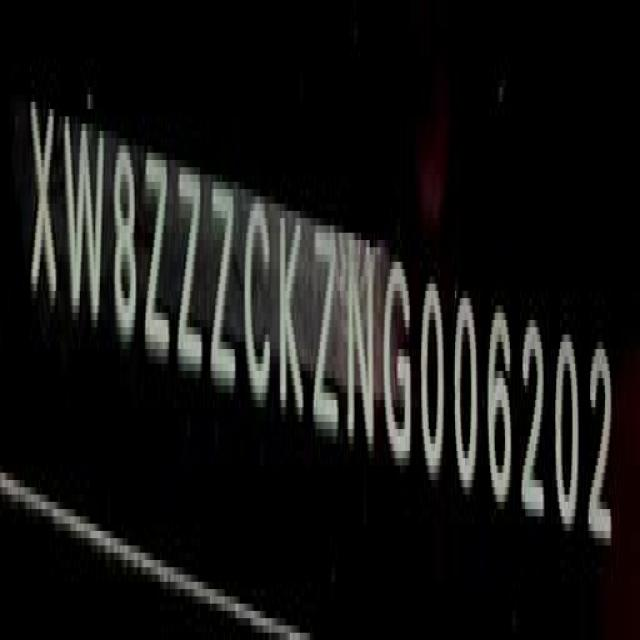0: (454, 288, 481, 499), (556, 327, 582, 535), (421, 271, 446, 484)
2: (521, 318, 548, 530), (590, 335, 616, 552)
6: (486, 300, 514, 514)
8: (114, 136, 138, 350)
C: (244, 191, 273, 408)
G: (386, 246, 415, 468)
K: (277, 205, 305, 422)
N: (344, 234, 376, 469)
W: (62, 104, 105, 338)
X: (27, 89, 58, 323)
Z: (312, 214, 338, 446), (211, 176, 238, 396), (143, 148, 169, 371), (178, 158, 201, 386)
